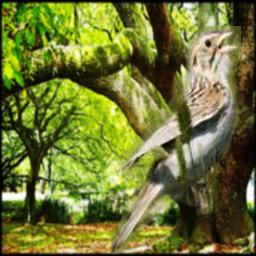Sparrow: (111, 26, 241, 254)
